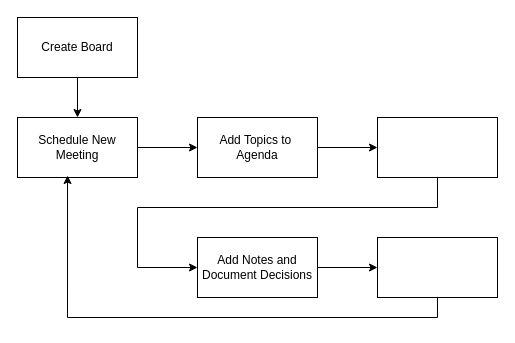
Some shapes in this 515 by 343 pixel diagram are drawn without their labels. The shapes that lost their labels are listed below. From the top down, each one's centre as x and y in pixels, then its label:
pixel 437 147: Conduct Meeting / Update Statuses
pixel 437 267: Set Meeting to Done
